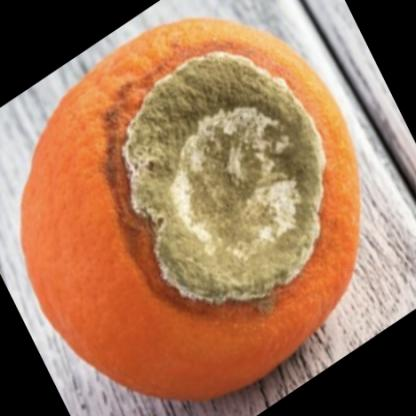rotten: (21, 17, 363, 402)
